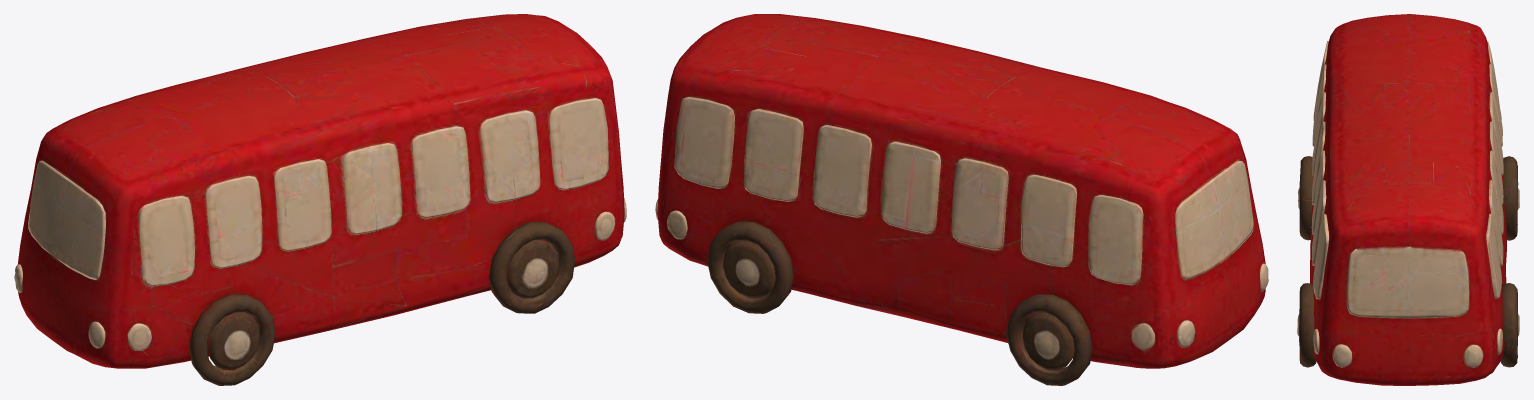
File: bus-red.glb
3 renders of one model, left to right at view 1: azimuth 30°, elevation 25°; view 2: azimuth 150°, elevation 25°; view 3: azimuth 270°, elevation 25°, orthographic. The views are drawn at different scales.
Visible parts, largest first — view 1: geometry_0; view 2: geometry_0; view 3: geometry_0.
Boxes of the visible parts, x1,y1,x2,y2 form: geometry_0: (14,14,626,385); geometry_0: (655,14,1268,385); geometry_0: (1297,14,1519,385).
Size of the model in its own units: 1 by 0.4142 by 0.4166.
1 material, 1 textured.
